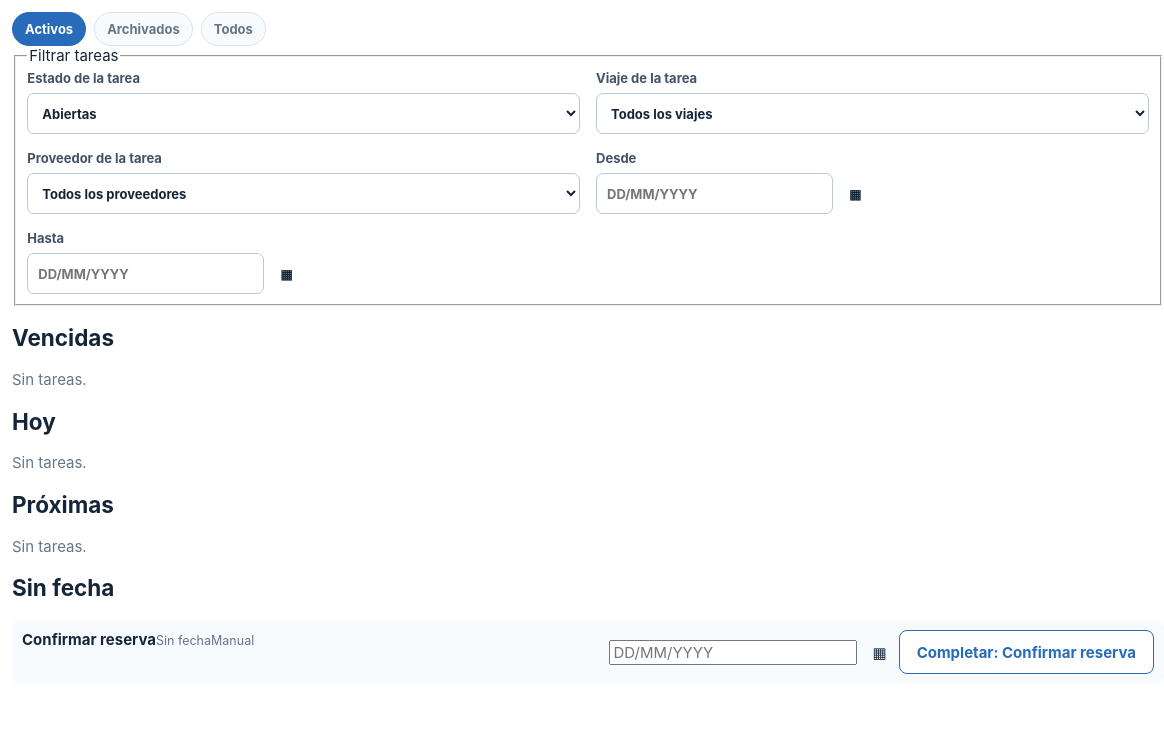
Test case: groupTasks › keeps archived tasks out of the active queue until the user explicitly asks to see them
Expected: the text "Seguimiento cerrado" is not shown
Click the button "Archivados" at (144,29), box [94,12,193,46]
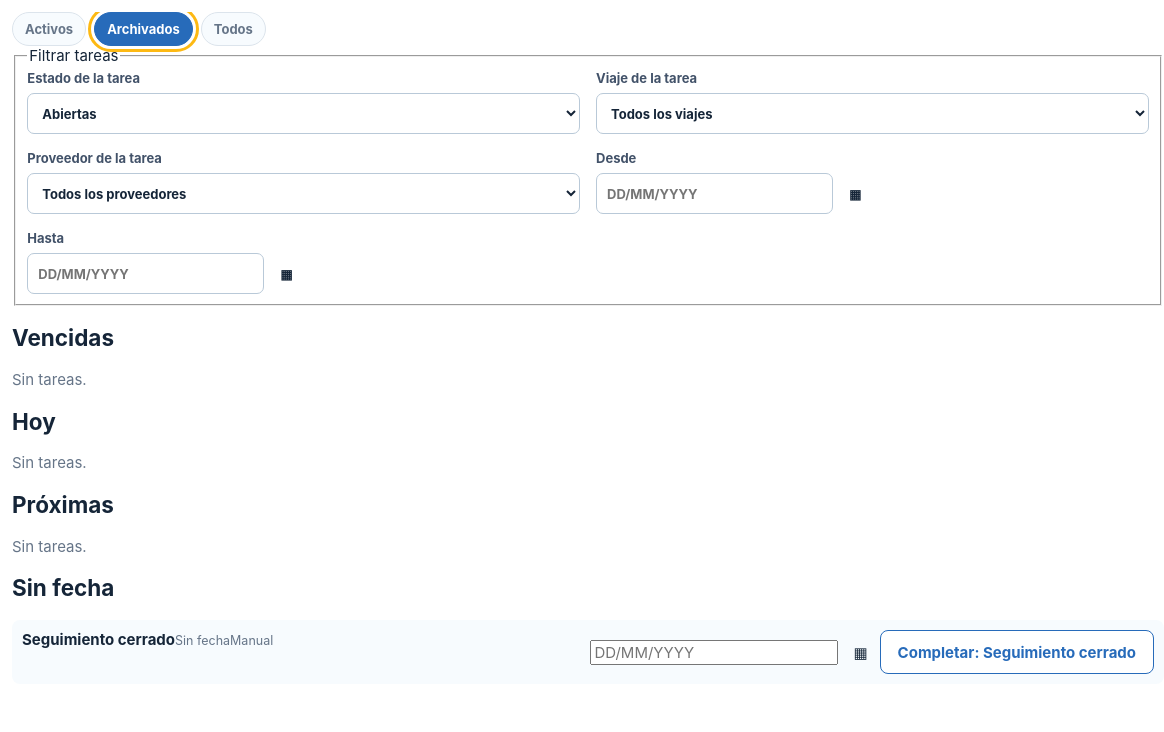
Expected: the text "Seguimiento cerrado" is shown, [22,630,175,649]
